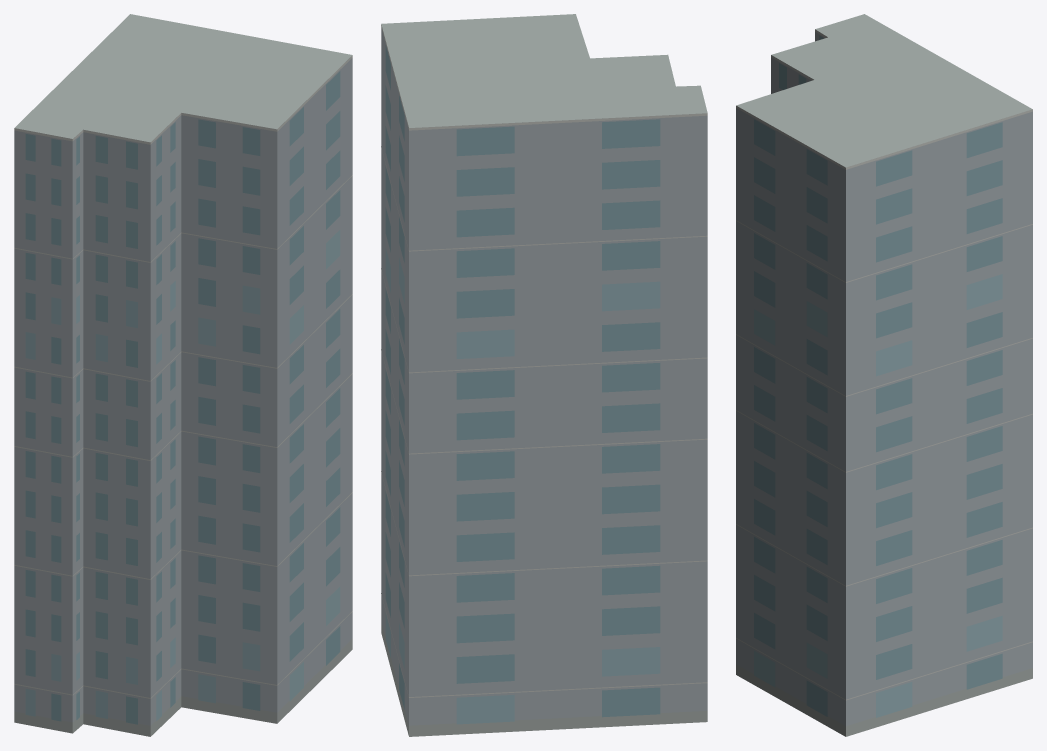
The model's file is survey-upis-33039707.glb.
3 views of the same model, side by side, from view 1: azimuth 30°, elevation 25°; view 2: azimuth 150°, elevation 25°; view 3: azimuth 270°, elevation 25° (orthographic). The views are drawn at different scales.
Visible parts, largest first — view 1: survey-upis-33039707.tmp; view 2: survey-upis-33039707.tmp; view 3: survey-upis-33039707.tmp.
Part boxes in pixels (x1,y1,x2,y2): survey-upis-33039707.tmp: [14, 14, 352, 736]; survey-upis-33039707.tmp: [381, 14, 707, 736]; survey-upis-33039707.tmp: [736, 14, 1032, 736].
Size of the model in its own units: 34.33 by 59.31 by 28.03.
